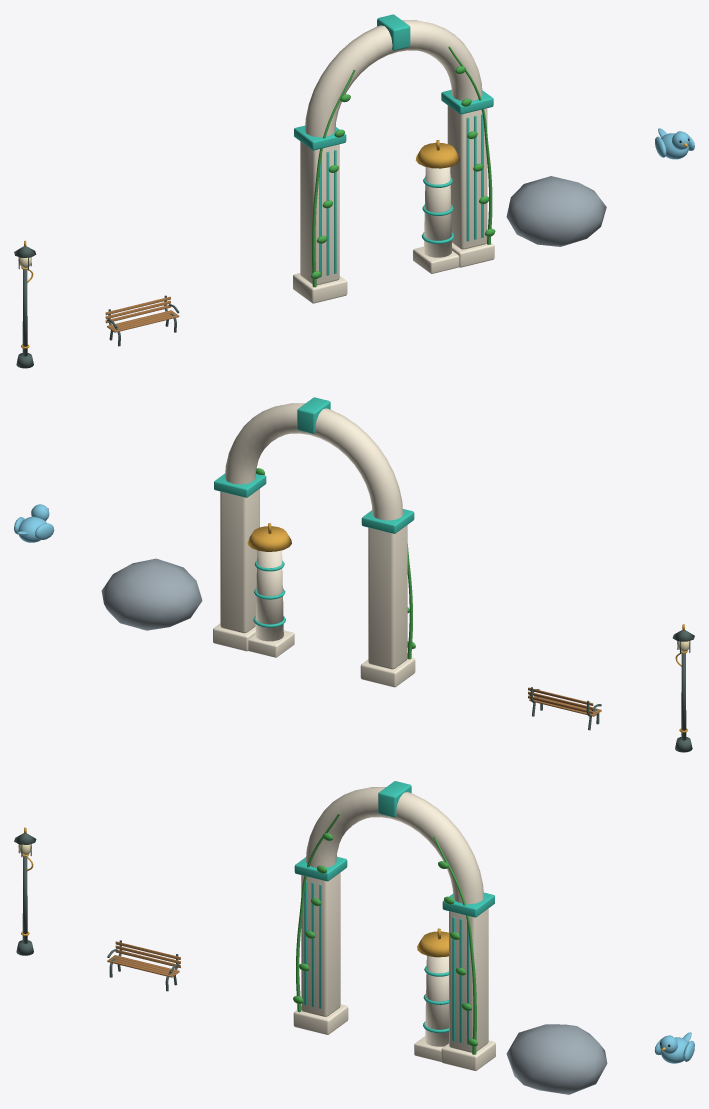
Rendered from props.glb.
3 renders of one model, top to bottom at view 1: azimuth 30°, elevation 25°; view 2: azimuth 150°, elevation 25°; view 3: azimuth 330°, elevation 25°, orthographic.
Visible parts, largest first — view 1: PortalArch, SongbirdRock, ChimePillar, Bench, LampPost, SongbirdBird; view 2: PortalArch, SongbirdRock, ChimePillar, Bench, LampPost, SongbirdBird; view 3: PortalArch, SongbirdRock, ChimePillar, Bench, LampPost, SongbirdBird.
Part boxes in pixels (left/top/right/bottom): PortalArch: left=293, top=14, right=495, bottom=303; SongbirdRock: left=506, top=176, right=606, bottom=246; ChimePillar: left=413, top=140, right=459, bottom=273; Bench: left=105, top=295, right=179, bottom=346; LampPost: left=14, top=240, right=36, bottom=368; SongbirdBird: left=655, top=128, right=694, bottom=159; PortalArch: left=213, top=397, right=415, bottom=687; SongbirdRock: left=101, top=558, right=202, bottom=630; ChimePillar: left=247, top=523, right=294, bottom=657; Bench: left=528, top=687, right=601, bottom=730; LampPost: left=672, top=624, right=694, bottom=752; SongbirdBird: left=14, top=504, right=54, bottom=542; PortalArch: left=293, top=781, right=495, bottom=1070; SongbirdRock: left=506, top=1024, right=607, bottom=1094; ChimePillar: left=414, top=928, right=448, bottom=1062; Bench: left=107, top=940, right=180, bottom=991; LampPost: left=14, top=827, right=36, bottom=955; SongbirdBird: left=654, top=1032, right=694, bottom=1063.
Bounding box in the file's own units: 22.9 × 8.4 × 2.87.
